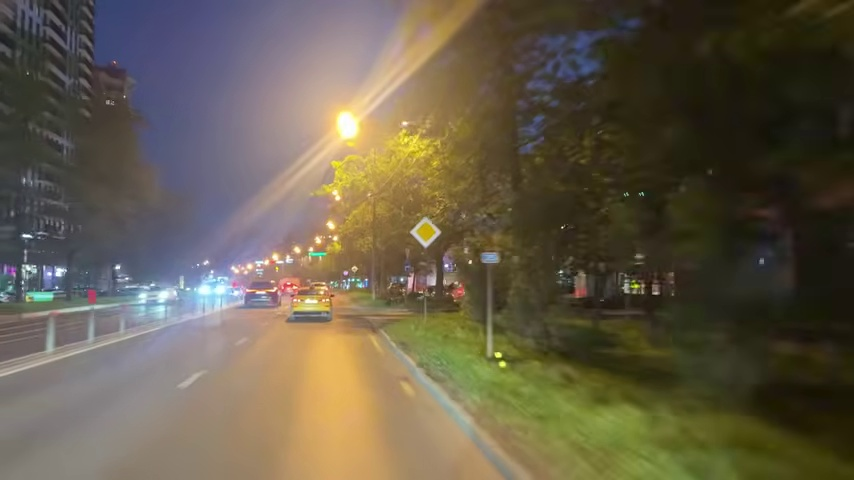acesa: (329, 107, 366, 144), (415, 223, 437, 243)
